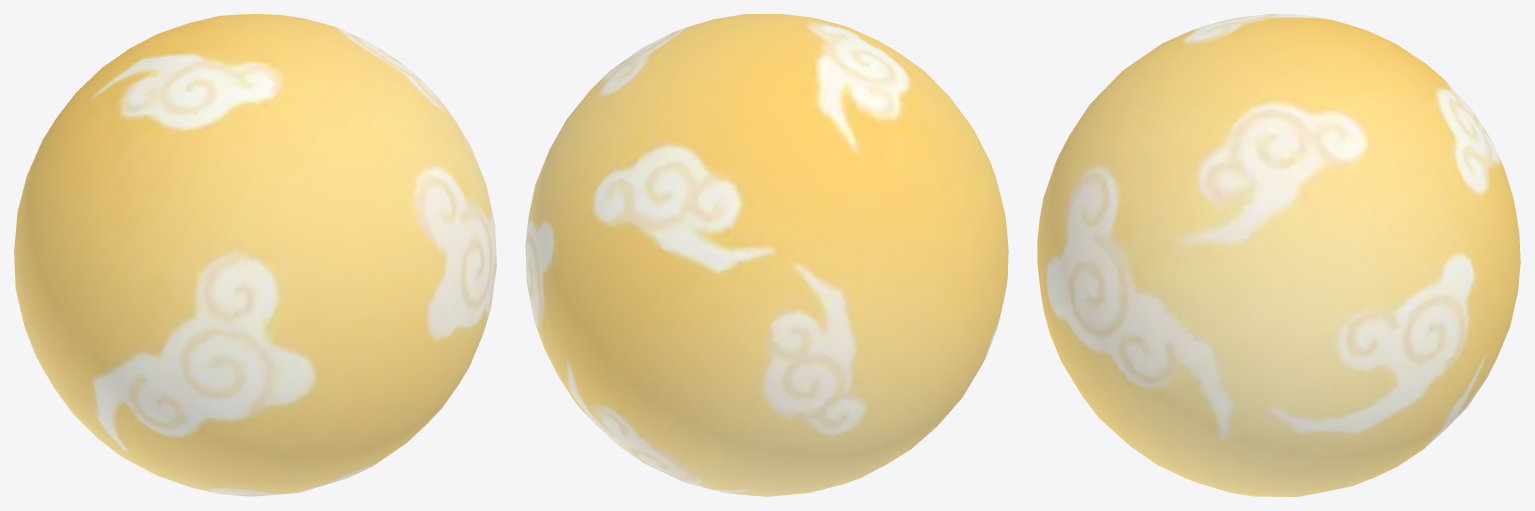
File: SM_PetPart_YinglongPearl.glb
3 renders of one model, left to right at view 1: azimuth 30°, elevation 25°; view 2: azimuth 150°, elevation 25°; view 3: azimuth 270°, elevation 25°, orthographic.
Visible parts, largest first — view 1: SM_PetPart_YinglongPearl_LOD0; view 2: SM_PetPart_YinglongPearl_LOD0; view 3: SM_PetPart_YinglongPearl_LOD0.
Part boxes in pixels (x1,y1,x2,y2): SM_PetPart_YinglongPearl_LOD0: [14, 14, 496, 496]; SM_PetPart_YinglongPearl_LOD0: [525, 14, 1008, 496]; SM_PetPart_YinglongPearl_LOD0: [1037, 14, 1520, 496].
Bounding box in the file's own units: 0.1586 × 0.1586 × 0.1587.
Materials: 1 (1 with a texture image).
